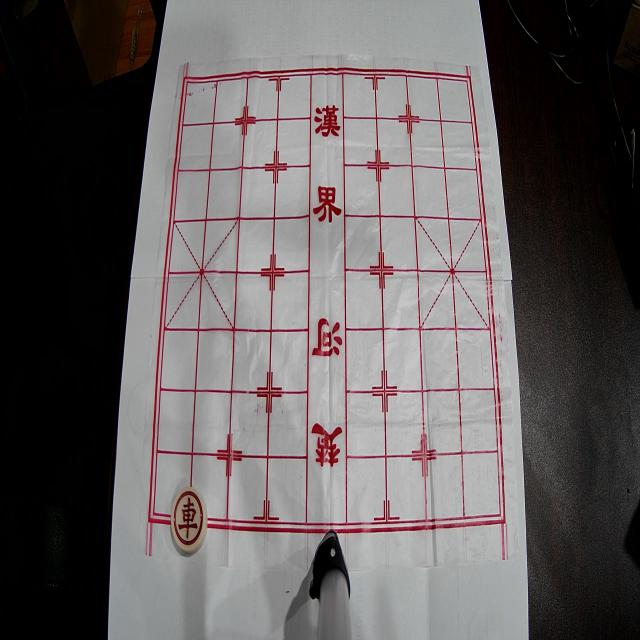red-chariot: (171, 487, 208, 553)
